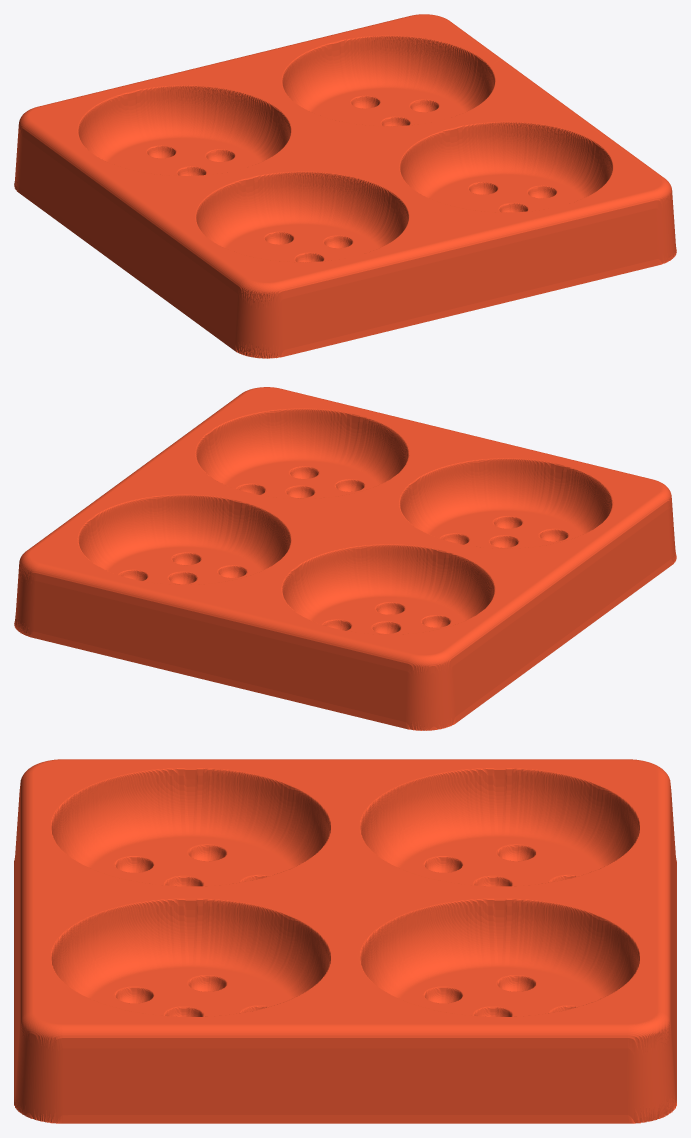
The model's file is mold.glb.
3 views of the same model, one above another, from view 1: azimuth 30°, elevation 25°; view 2: azimuth 150°, elevation 25°; view 3: azimuth 270°, elevation 25° (orthographic). The views are drawn at different scales.
Visible parts, largest first — view 1: geometry_0; view 2: geometry_0; view 3: geometry_0.
Boxes of the visible parts, box(x1,y1,x2,y2) form: geometry_0: box(14, 14, 676, 358); geometry_0: box(14, 387, 676, 730); geometry_0: box(14, 759, 676, 1123).
Size of the model in its own units: 0.1218 by 0.0185 by 0.1218.
